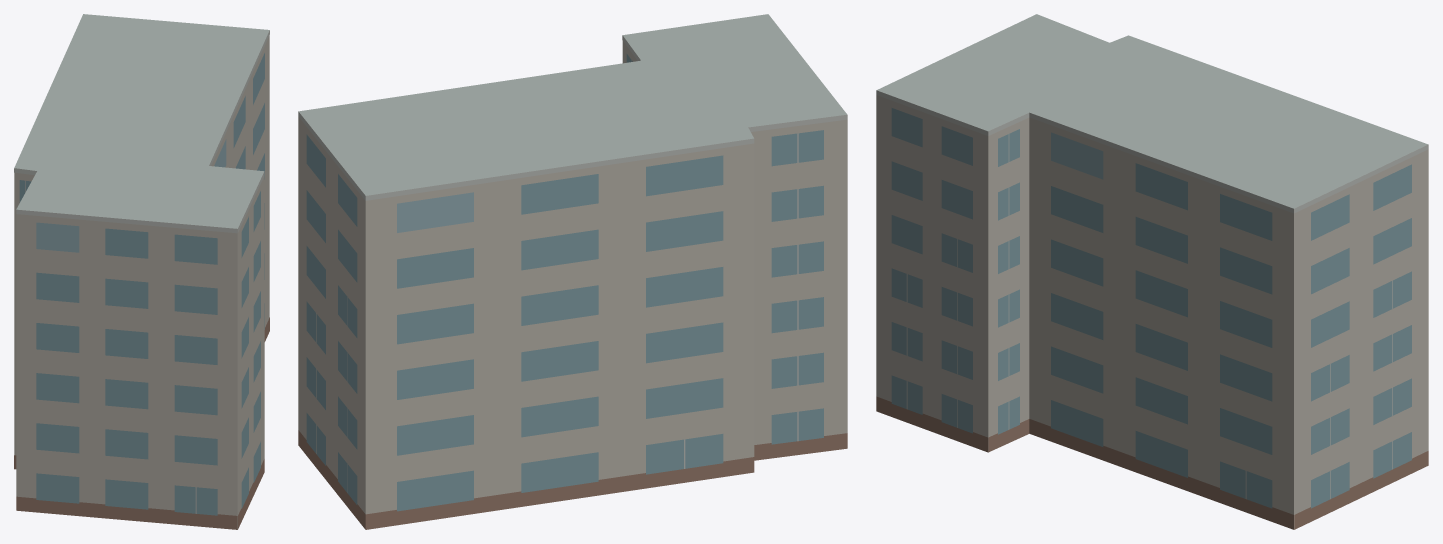
The model's file is survey-upis-32520938.glb.
3 renders of one model, left to right at view 1: azimuth 30°, elevation 25°; view 2: azimuth 150°, elevation 25°; view 3: azimuth 270°, elevation 25°, orthographic. The views are drawn at different scales.
Visible parts, largest first — view 1: survey-upis-32520938.tmp; view 2: survey-upis-32520938.tmp; view 3: survey-upis-32520938.tmp.
Boxes of the visible parts, box(x1,y1,x2,y2) form: survey-upis-32520938.tmp: box(14, 14, 269, 529); survey-upis-32520938.tmp: box(298, 14, 847, 529); survey-upis-32520938.tmp: box(876, 14, 1428, 529).
Size of the model in its own units: 21.41 by 16.45 by 25.64.
